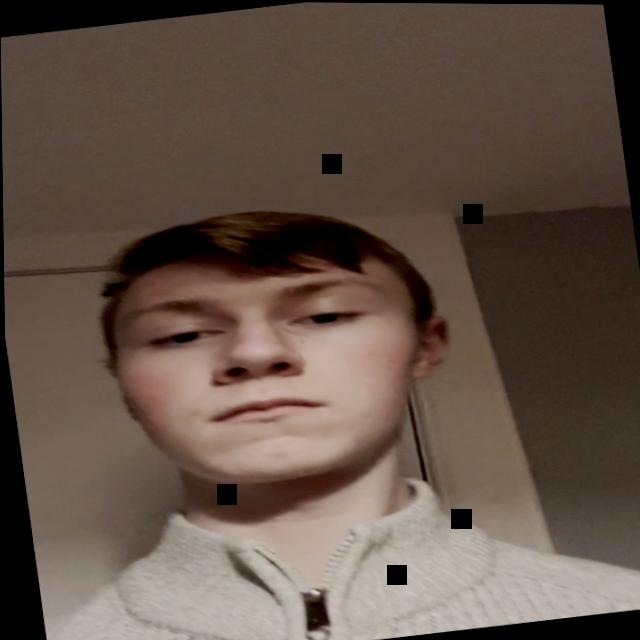NO-Mask: (81, 176, 463, 543)
